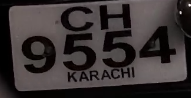CH9554: (3, 2, 189, 93)
